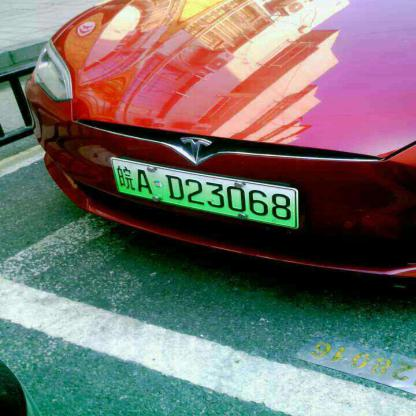lp: (112, 159, 294, 225)
